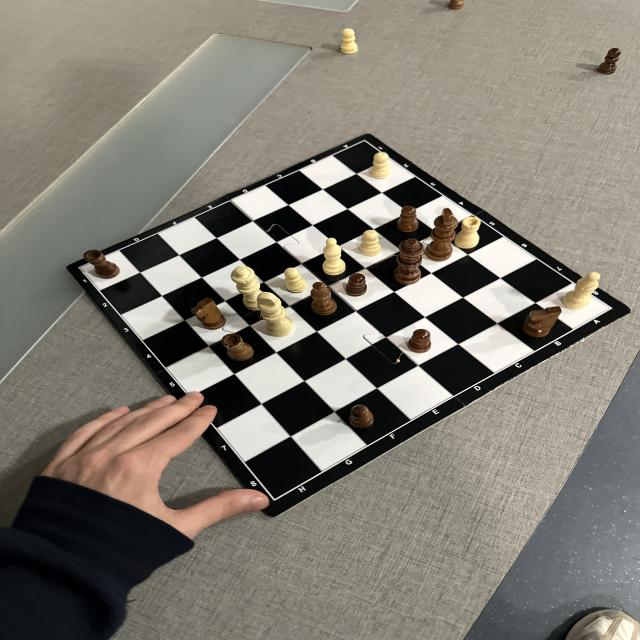Black-Bishop: (310, 281, 338, 316)
Black-King: (426, 208, 459, 262)
Black-Knight: (521, 306, 562, 338), (191, 298, 227, 330)
Black-Pawn: (348, 404, 375, 429), (597, 48, 621, 74), (396, 205, 419, 232), (408, 329, 432, 353), (345, 272, 368, 297)
Black-Queen: (394, 238, 424, 284)
Black-Rook: (83, 250, 121, 278), (221, 333, 254, 361)
White-Bishop: (562, 272, 601, 310), (322, 238, 346, 276)
White-King: (257, 291, 294, 337)
White-Pawn: (359, 230, 382, 256), (284, 267, 307, 293), (339, 27, 359, 54), (370, 152, 390, 179)
White-Queen: (230, 266, 268, 311)
White-Rook: (454, 216, 481, 249)
